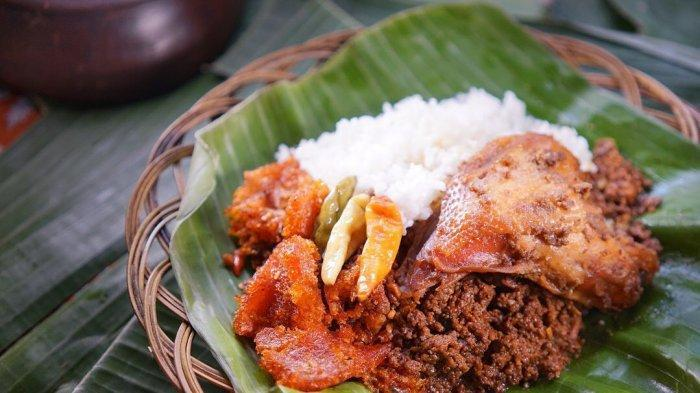gudeg: (230, 93, 662, 391)
